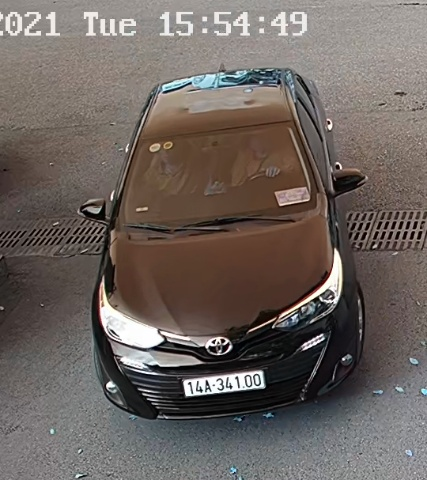vehicle plate: (173, 368, 268, 395)
